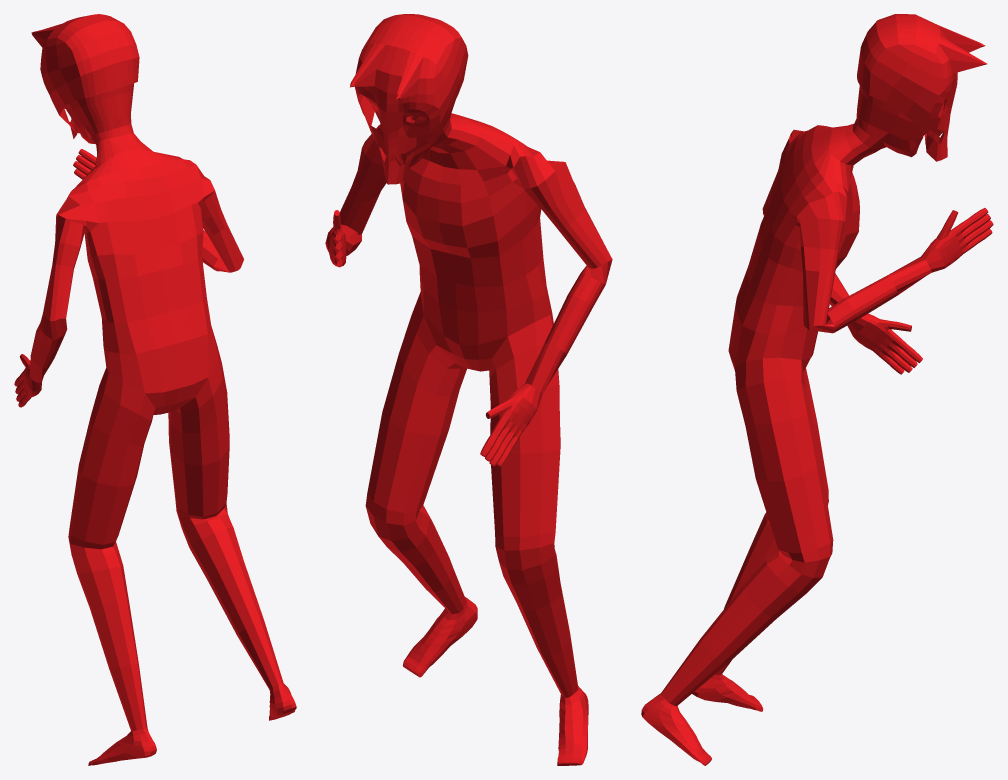
File: correrE_000117.obj
3 views of the same model, side by side, from view 1: azimuth 30°, elevation 25°; view 2: azimuth 150°, elevation 25°; view 3: azimuth 270°, elevation 25° (orthographic). The views are drawn at different scales.
Visible parts, largest first — view 1: Plane.002_Plane.001; view 2: Plane.002_Plane.001; view 3: Plane.002_Plane.001.
Part boxes in pixels (x1,y1,x2,y2): Plane.002_Plane.001: [14, 14, 296, 765]; Plane.002_Plane.001: [325, 14, 612, 765]; Plane.002_Plane.001: [641, 14, 993, 765].
Bounding box in the file's own units: 2.28 × 6.77 × 3.
